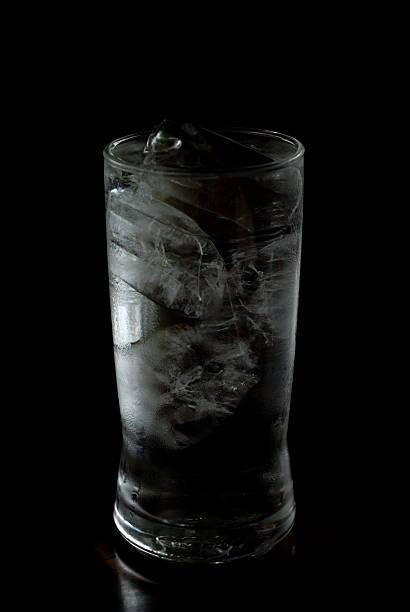glass-normal: (99, 122, 310, 571)
